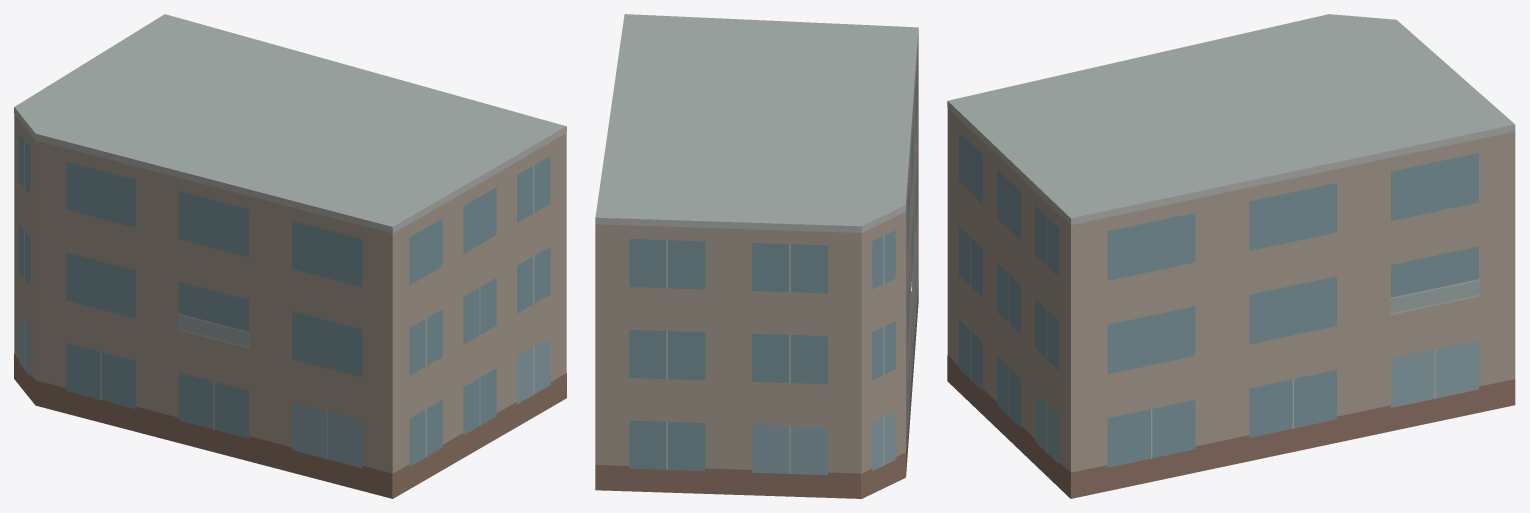
File: survey-upis-33012588.glb
The picture shows the model from 3 angles, left to right: view 1: azimuth 30°, elevation 25°; view 2: azimuth 150°, elevation 25°; view 3: azimuth 270°, elevation 25°; orthographic projection. The views are drawn at different scales.
Parts seen in each view (by area): view 1: survey-upis-33012588.tmp; view 2: survey-upis-33012588.tmp; view 3: survey-upis-33012588.tmp.
Boxes of the visible parts, <box> form: survey-upis-33012588.tmp: <box>14,14,566,498</box>; survey-upis-33012588.tmp: <box>595,14,918,498</box>; survey-upis-33012588.tmp: <box>947,14,1515,498</box>.
Size of the model in its own units: 15.63 by 10 by 18.35.
